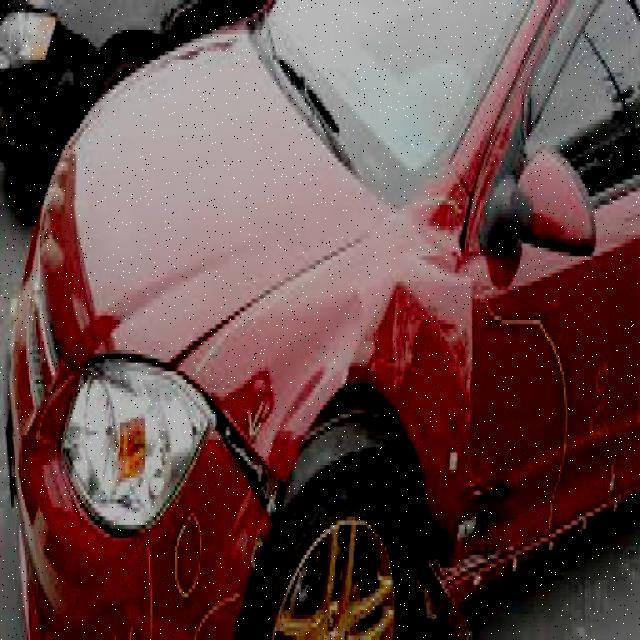car damage: (113, 265, 517, 638), (427, 123, 517, 260)
